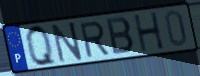0: (163, 9, 189, 50)
B: (105, 16, 137, 57)
H: (132, 10, 166, 54)
N: (50, 20, 85, 64)
Q: (24, 23, 59, 69)
R: (78, 20, 111, 60)
